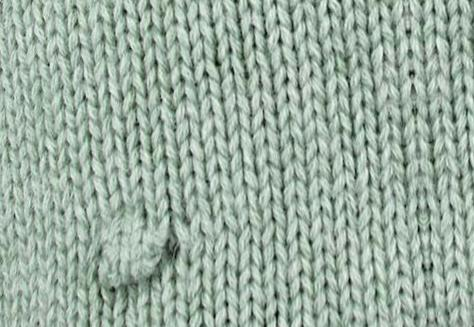knot: (92, 218, 181, 292)
